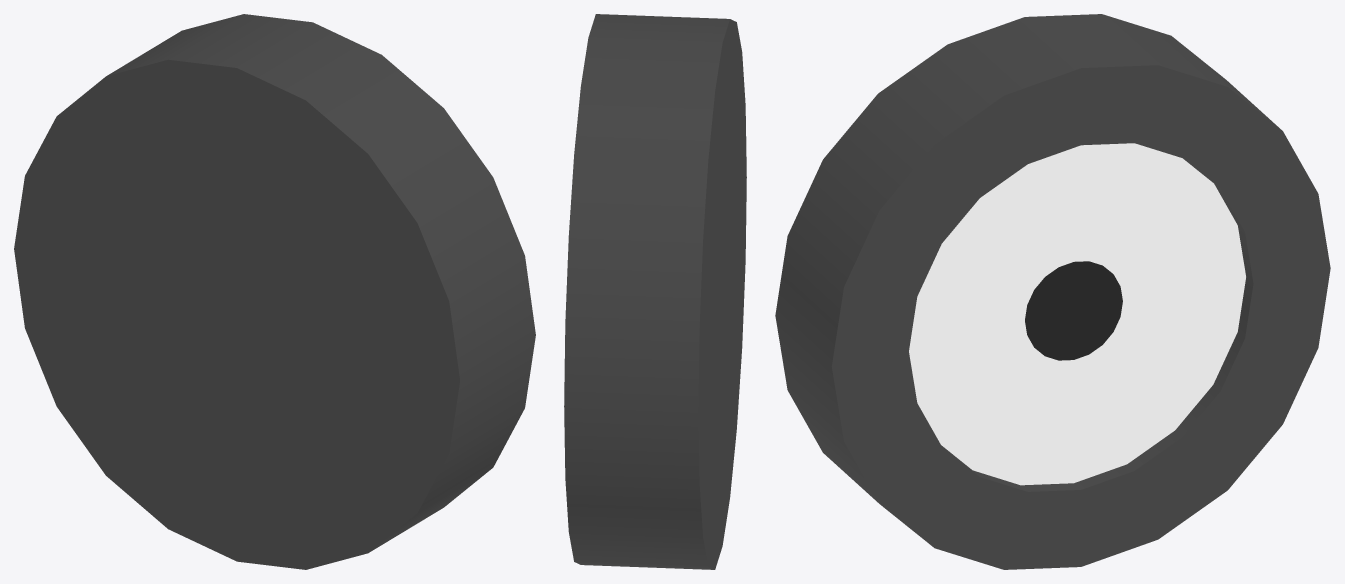
File: object_30.001_lev1.glb
The picture shows the model from 3 angles, left to right: view 1: azimuth 30°, elevation 25°; view 2: azimuth 150°, elevation 25°; view 3: azimuth 270°, elevation 25°; orthographic projection.
Visible parts, largest first — view 1: object_30.001_lev1; view 2: object_30.001_lev1; view 3: object_30.001_lev1.
Part boxes in pixels (left/top/right/bottom): object_30.001_lev1: left=14, top=14, right=535, bottom=569; object_30.001_lev1: left=564, top=14, right=746, bottom=569; object_30.001_lev1: left=775, top=14, right=1330, bottom=569.
Size of the model in its own units: 0.0998 by 0.1552 by 0.1566.
1 material, 1 textured.
